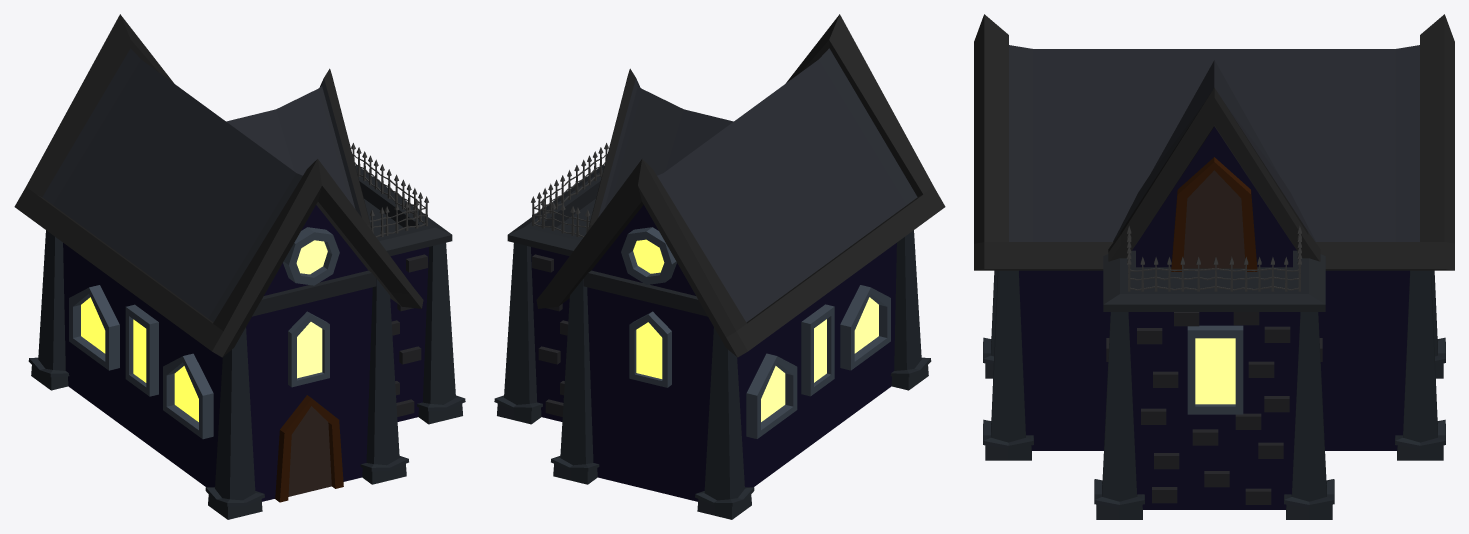
File: CasaGoticaVariante2_Casa02.fbx
3 views of the same model, side by side, from view 1: azimuth 30°, elevation 25°; view 2: azimuth 150°, elevation 25°; view 3: azimuth 270°, elevation 25° (orthographic). The views are drawn at different scales.
Visible parts, largest first — view 1: T2_Telhado02, T2_Parede02, T2_Pilar02, T2_Divisao02, T2_JanelaContorno01.004, T2_JanelaContorno01.002, T2_Porta01, T2_PortaContorno01.001, T2_Cerca02, T2_JanelaContorno01.005, T2_FundoJanela01.004, T2_FundoJanela01.002 (+3 smaller); view 2: T2_Telhado02, T2_Parede02, T2_Pilar02, T2_Divisao02, T2_JanelaContorno01.004, T2_FundoJanela01.006, T2_Cerca02, T2_JanelaContorno01.005, T2_FundoJanela01.004, T2_JanelaContorno01.002, T2_JanelaContorno01.006, T2_Tijolo01.013 (+1 smaller); view 3: T2_Telhado02, T2_Parede02, T2_Pilar02, T2_Divisao02, T2_Tijolo01.013, T2_Porta01.002, T2_PortaContorno01.002, T2_FundoJanela01.003, T2_JanelaContorno01.003, T2_Cerca02.
Part boxes in pixels (box(x1,y1,x2,y2)): T2_Telhado02: box(14, 14, 423, 357); T2_Parede02: box(63, 205, 428, 501); T2_Pilar02: box(28, 230, 465, 519); T2_Divisao02: box(252, 165, 452, 316); T2_JanelaContorno01.004: box(69, 285, 213, 439); T2_JanelaContorno01.002: box(283, 227, 339, 387); T2_Porta01: box(288, 406, 331, 496); T2_PortaContorno01.001: box(275, 395, 343, 502); T2_Cerca02: box(351, 143, 428, 237); T2_JanelaContorno01.005: box(125, 304, 158, 396); T2_FundoJanela01.004: box(81, 297, 198, 421); T2_FundoJanela01.002: box(297, 322, 322, 378); T2_Telhado02: box(536, 14, 945, 357); T2_Parede02: box(531, 205, 896, 501); T2_Pilar02: box(494, 230, 931, 519); T2_Divisao02: box(507, 165, 707, 316); T2_JanelaContorno01.004: box(746, 285, 890, 438); T2_FundoJanela01.006: box(633, 239, 664, 378); T2_Cerca02: box(531, 143, 608, 237); T2_JanelaContorno01.005: box(801, 304, 834, 396); T2_FundoJanela01.004: box(761, 297, 878, 421); T2_JanelaContorno01.002: box(621, 227, 676, 284); T2_JanelaContorno01.006: box(629, 311, 671, 387); T2_Tijolo01.013: box(532, 254, 568, 416); T2_Telhado02: box(974, 14, 1454, 270); T2_Parede02: box(1019, 126, 1409, 509); T2_Pilar02: box(983, 270, 1445, 519); T2_Divisao02: box(1103, 250, 1325, 311); T2_Tijolo01.013: box(1106, 312, 1322, 504); T2_Porta01.002: box(1183, 170, 1245, 268); T2_PortaContorno01.002: box(1171, 157, 1257, 271); T2_FundoJanela01.003: box(1195, 338, 1235, 404); T2_JanelaContorno01.003: box(1187, 325, 1243, 414); T2_Cerca02: box(1127, 226, 1301, 291).
Size of the model in its own units: 2190 by 2368 by 2602.
